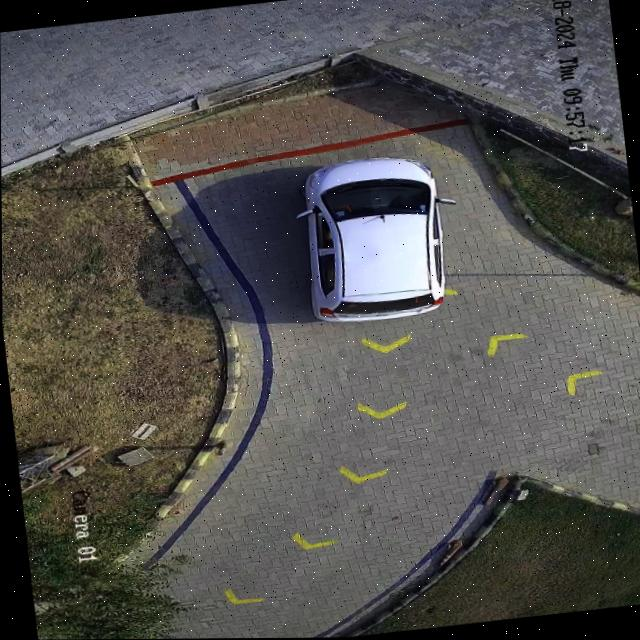car: (299, 157, 450, 322)
